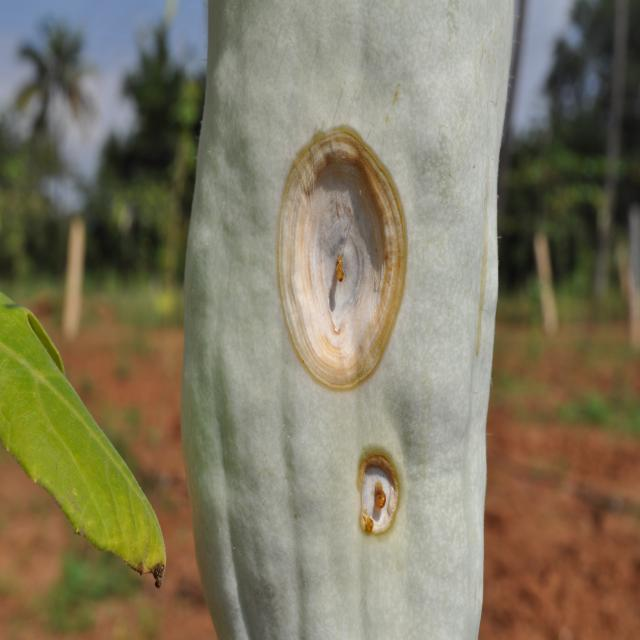Fruit fly: (260, 115, 438, 386), (348, 432, 418, 542)
